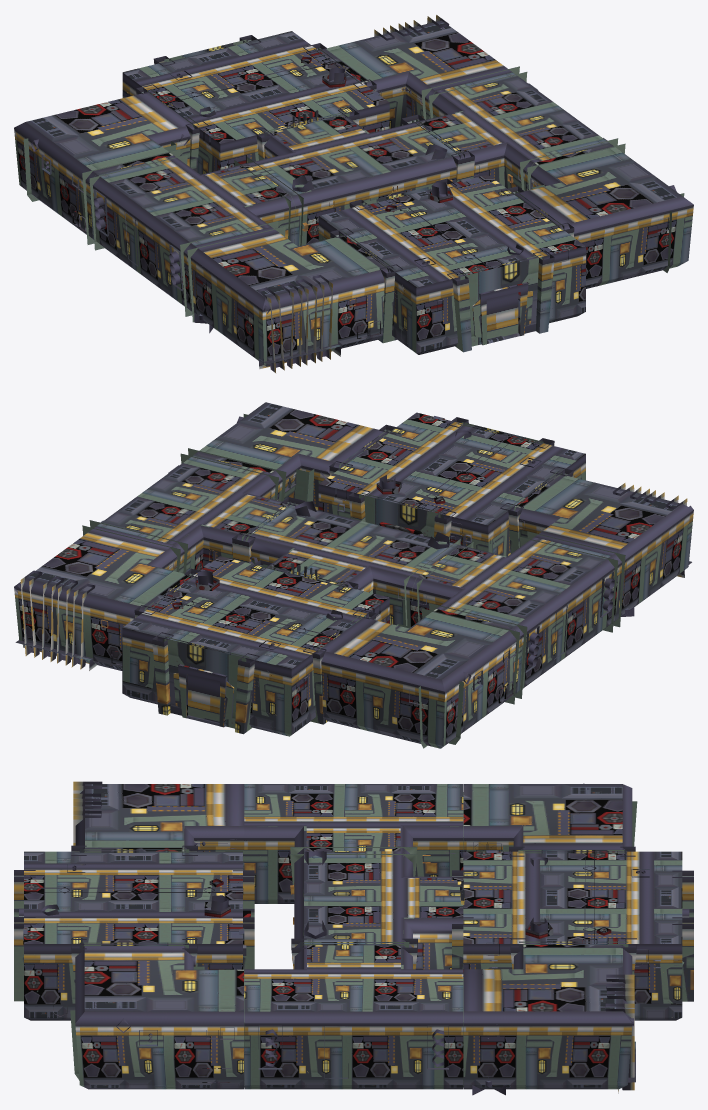
File: Combined_Mesh_root_scene__21_87b8b529__zombies2_diffuse_07_65562b6b_c1f257.obj
The picture shows the model from 3 angles, top to bottom: view 1: azimuth 30°, elevation 25°; view 2: azimuth 150°, elevation 25°; view 3: azimuth 270°, elevation 25°; orthographic projection. The views are drawn at different scales.
Size of the model in its own units: 52.07 by 9.64 by 62.1.
Materials: 148 (148 with a texture image).
